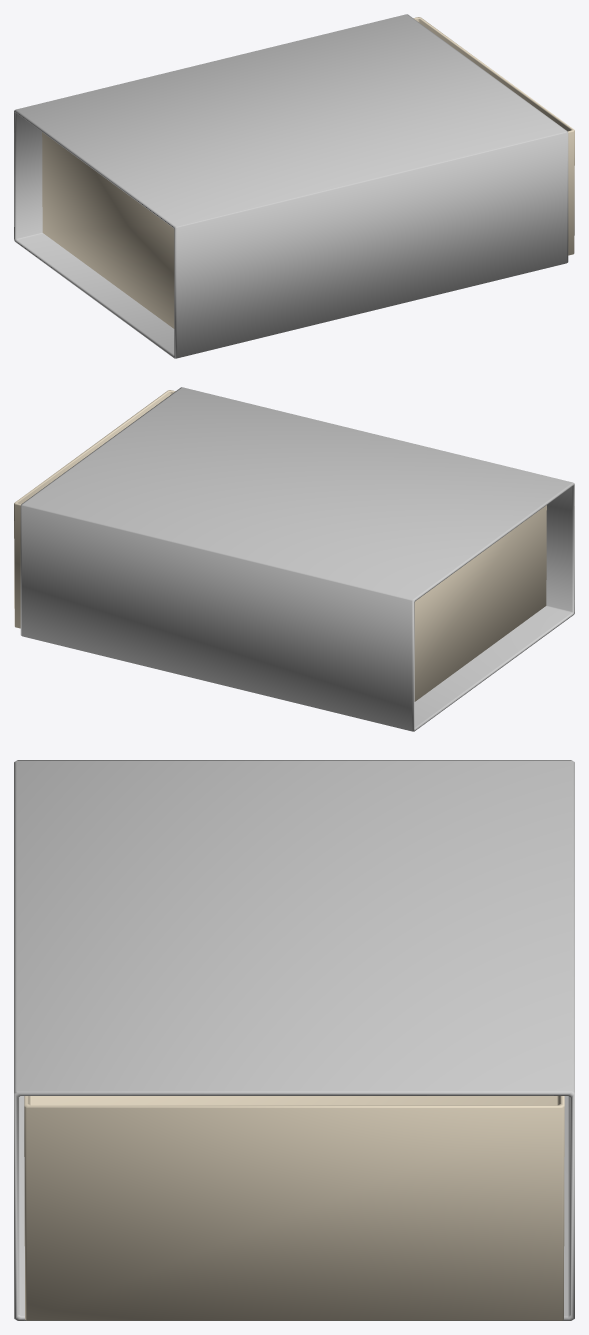
File: Matches.fbx
The picture shows the model from 3 angles, top to bottom: view 1: azimuth 30°, elevation 25°; view 2: azimuth 150°, elevation 25°; view 3: azimuth 270°, elevation 25°; orthographic projection. The views are drawn at different scales.
Visible parts, largest first — view 1: outerBox, innerBox; view 2: outerBox, innerBox; view 3: outerBox, innerBox.
Boxes of the visible parts, bbox=[...] form: outerBox: bbox=[14, 14, 568, 358]; innerBox: bbox=[42, 17, 574, 328]; outerBox: bbox=[20, 387, 574, 731]; innerBox: bbox=[14, 390, 546, 701]; outerBox: bbox=[14, 760, 574, 1320]; innerBox: bbox=[24, 1096, 564, 1320].
Bounding box in the file's own units: 7.36 × 2.3 × 5.11.
